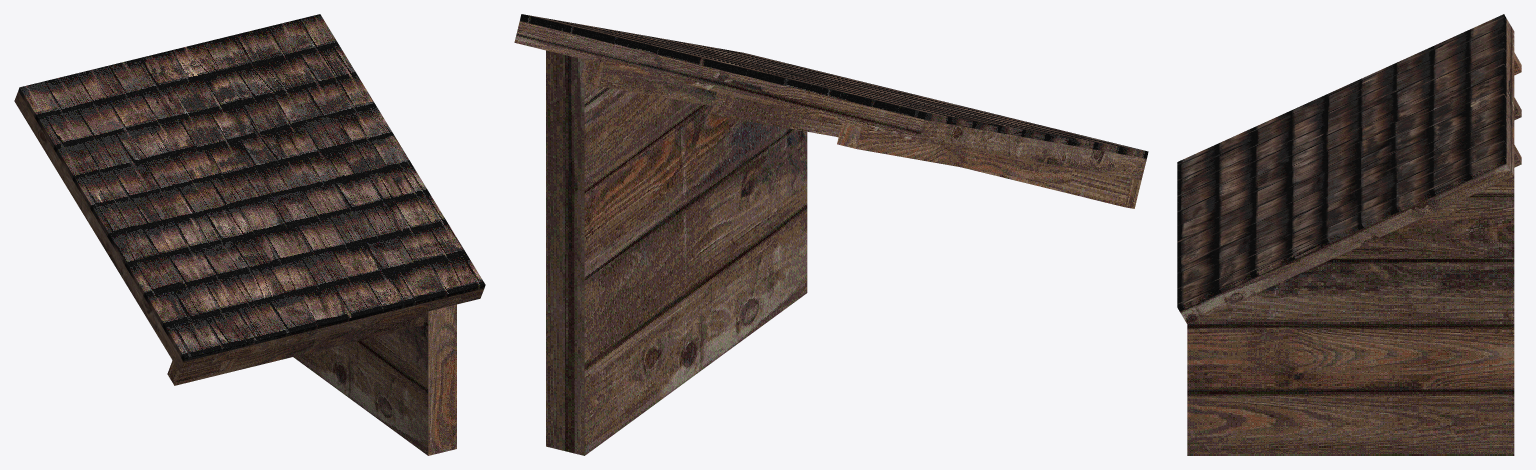
Rendered from roof-midR.glb.
The picture shows the model from 3 angles, left to right: view 1: azimuth 30°, elevation 25°; view 2: azimuth 150°, elevation 25°; view 3: azimuth 270°, elevation 25°; orthographic projection. The views are drawn at different scales.
Visible parts, largest first — view 1: roof-midR.001; view 2: roof-midR.001; view 3: roof-midR.001.
Part boxes in pixels (x1,y1,x2,y2): roof-midR.001: (14,14,485,455); roof-midR.001: (514,14,1148,455); roof-midR.001: (1177,14,1521,455).
Bounding box in the file's own units: 2.1 × 2.08 × 2.11.
Materials: 2 (2 with a texture image).
